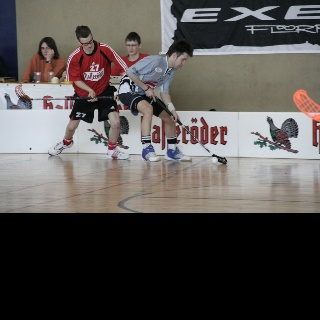without_mask: (173, 51, 189, 70), (175, 55, 188, 69), (40, 42, 51, 58), (80, 37, 93, 50)
